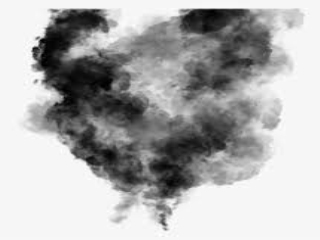smoke: (40, 21, 282, 199)
